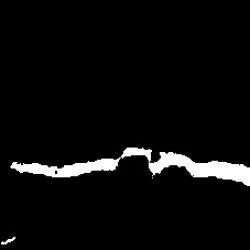crack: (13, 148, 249, 187), (0, 237, 14, 245)
